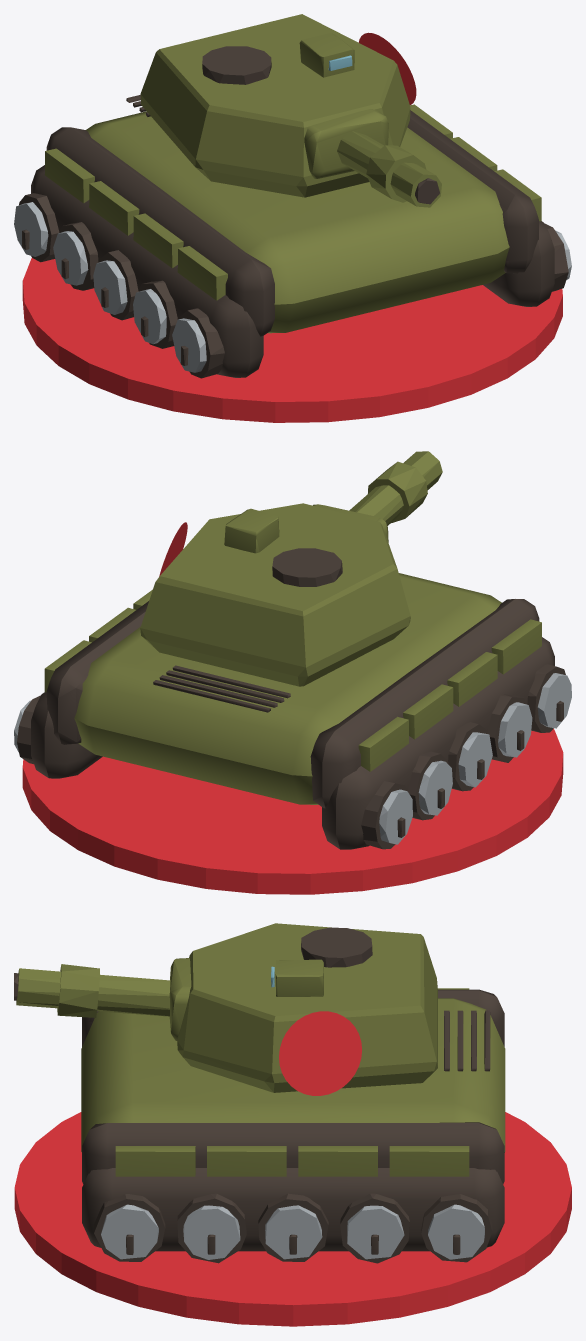
The model's file is japan_tank_lod0.glb.
3 views of the same model, one above another, from view 1: azimuth 30°, elevation 25°; view 2: azimuth 150°, elevation 25°; view 3: azimuth 270°, elevation 25° (orthographic). The views are drawn at different scales.
Parts seen in each view (by area): view 1: body_hull, base_pedestal; view 2: body_hull, base_pedestal; view 3: body_hull, base_pedestal.
Part boxes in pixels (box(x1,y1,x2,y2)): body_hull: box(14, 14, 571, 378); base_pedestal: box(22, 258, 562, 422); body_hull: box(14, 451, 571, 849); base_pedestal: box(22, 729, 563, 894); body_hull: box(14, 923, 505, 1263); base_pedestal: box(14, 1112, 571, 1326).
Size of the model in its own units: 0.7791 by 0.4019 by 0.78.
